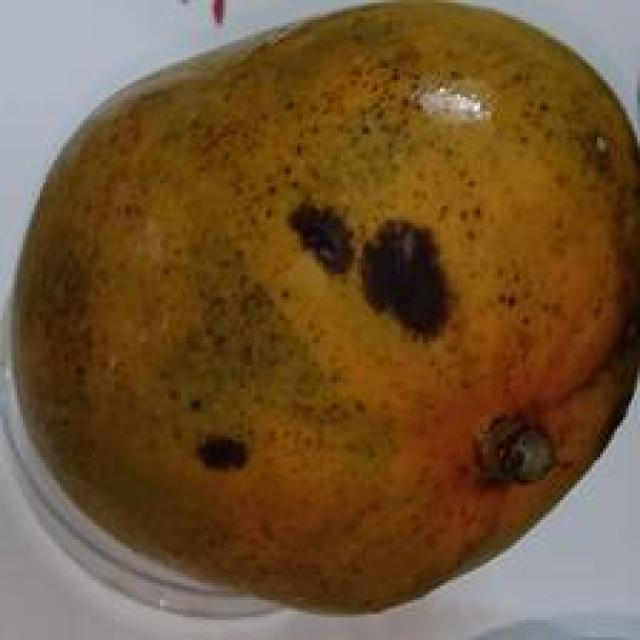Mango: (11, 4, 640, 618)
